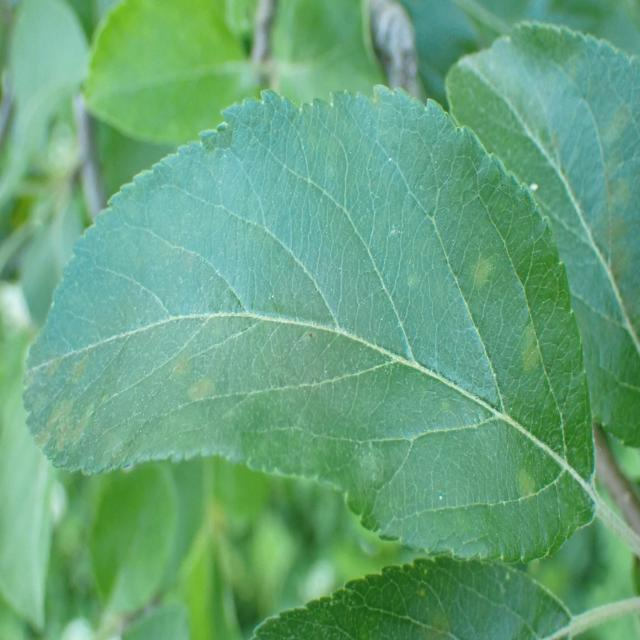scab: (20, 149, 595, 553), (505, 0, 640, 362)
